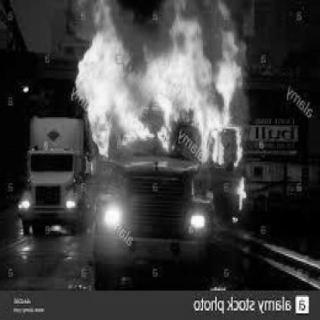Fire: (67, 2, 257, 172)
